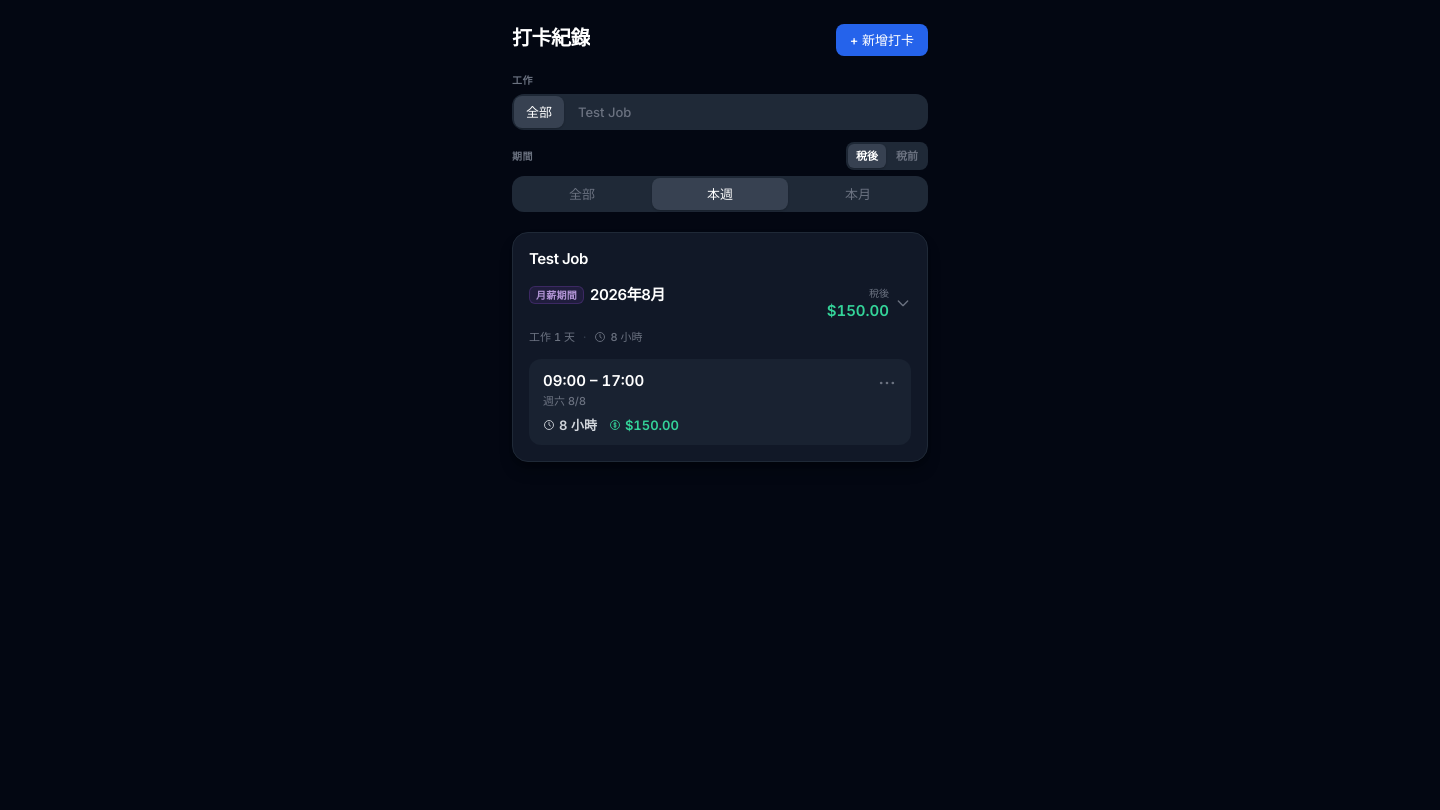
RecordsPage — 備註欄位 › 編輯表單顯示備註欄位
The width and height of the screenshot is (1440, 810).
Click the button named "更多操作" at (887, 383), box [869, 365, 905, 401]
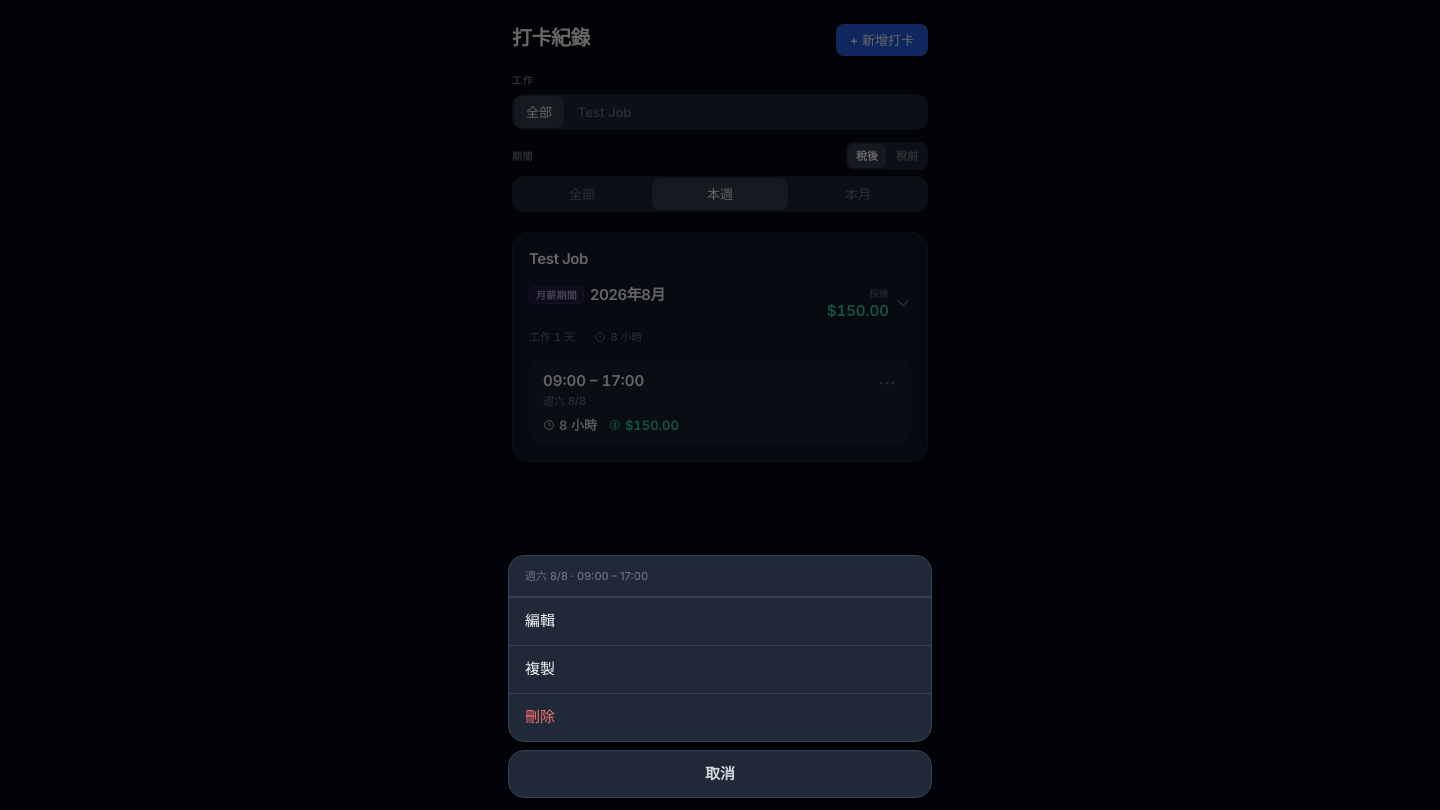
Click the button "編輯" at (540, 621), box [509, 597, 931, 645]
(page scrolled)
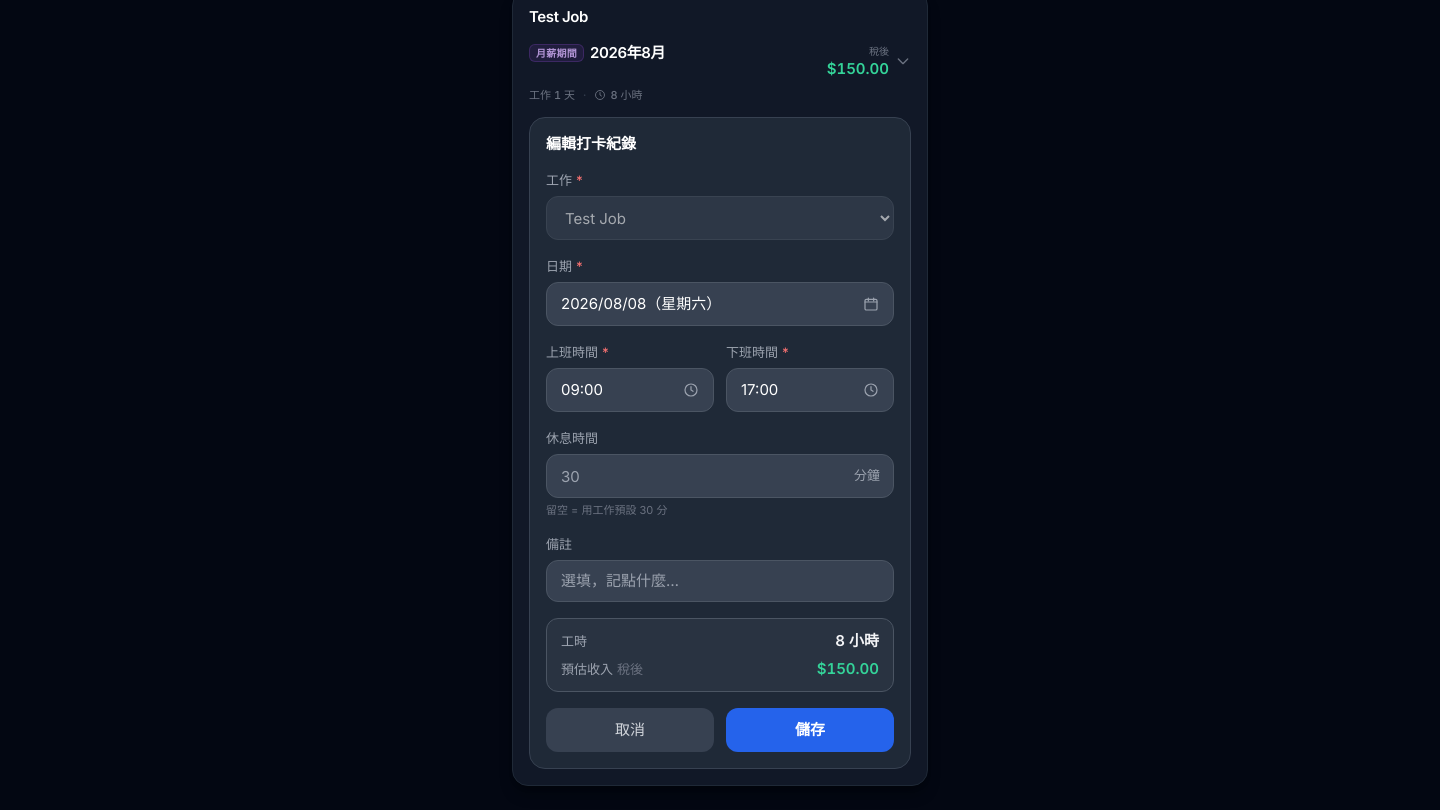
expect the text box with placeholder "選填，記點什麼…" is shown: met, box [546, 560, 894, 602]
